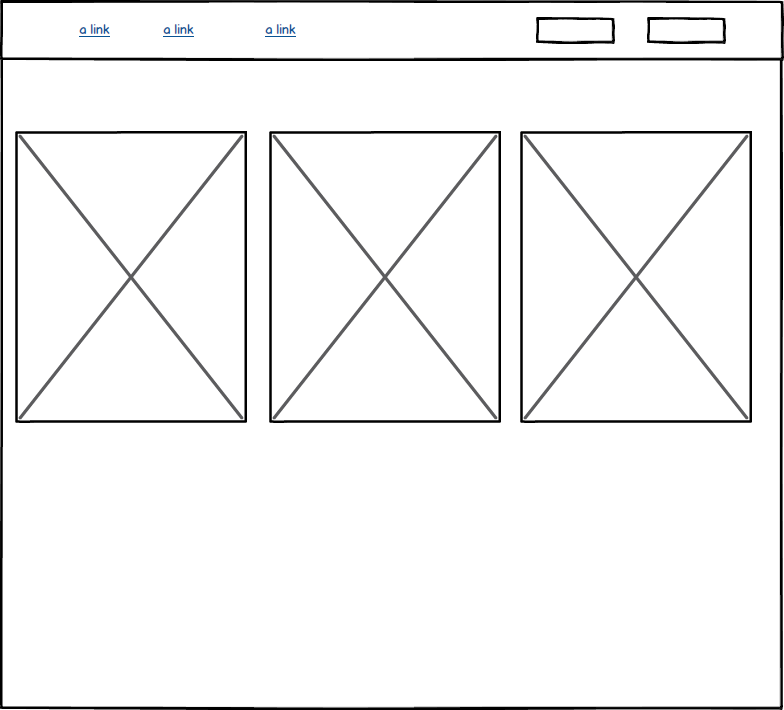image: (263, 124, 506, 428), (10, 128, 254, 428), (516, 126, 755, 428)
input: (527, 11, 622, 47), (640, 12, 733, 48)
navlink: (260, 21, 304, 50), (73, 21, 117, 44), (159, 22, 199, 45)
